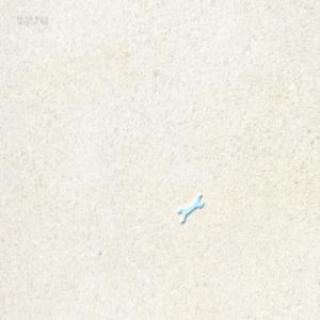Wrenchtrack_idkeyframe: (177, 191, 203, 222)
